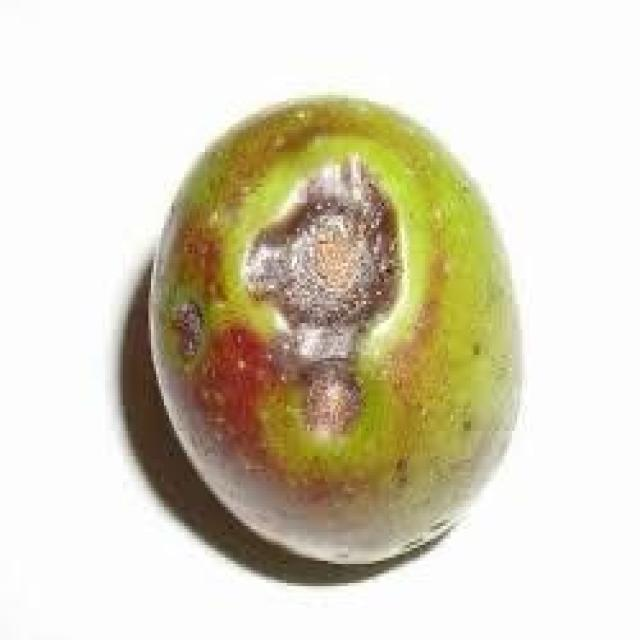Anthracnose: (151, 99, 520, 552)
